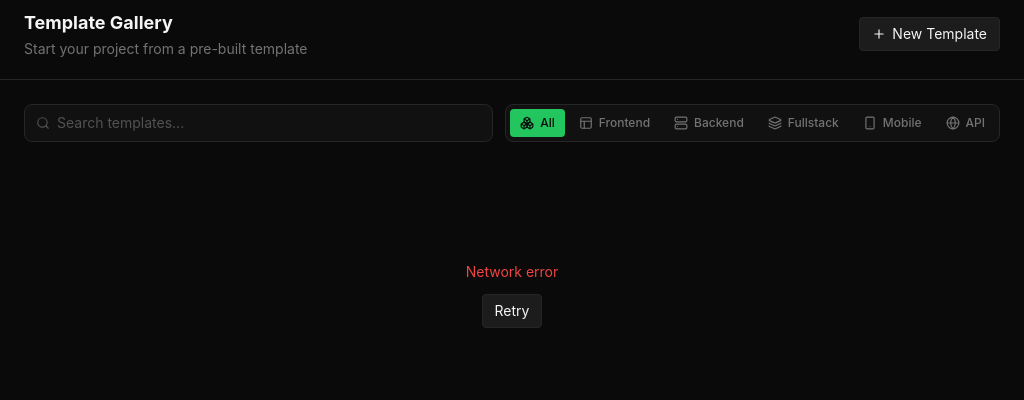
Test: TemplateGallery › shows error state and retry button on fetch failure
Expected: the text "Network error" is shown, [466, 262, 558, 282]
Click the button "Retry" at (512, 311), box [482, 294, 542, 328]
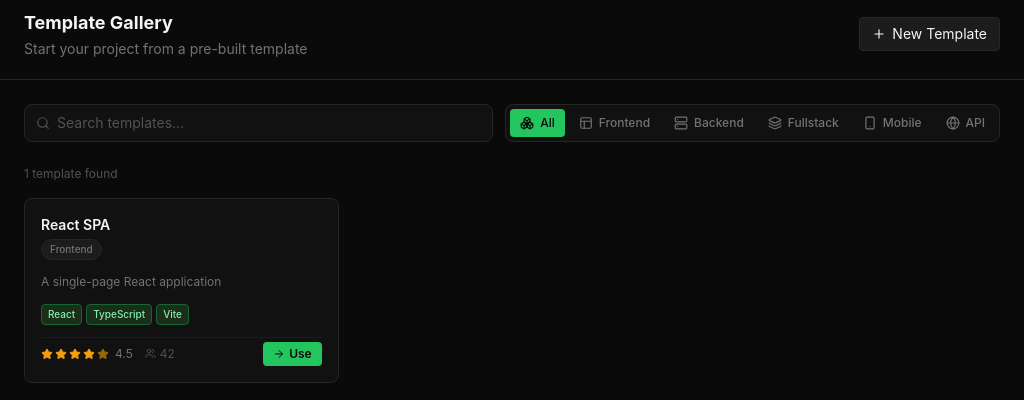
Expected: the heading "React SPA" is shown, [41, 216, 110, 233]
